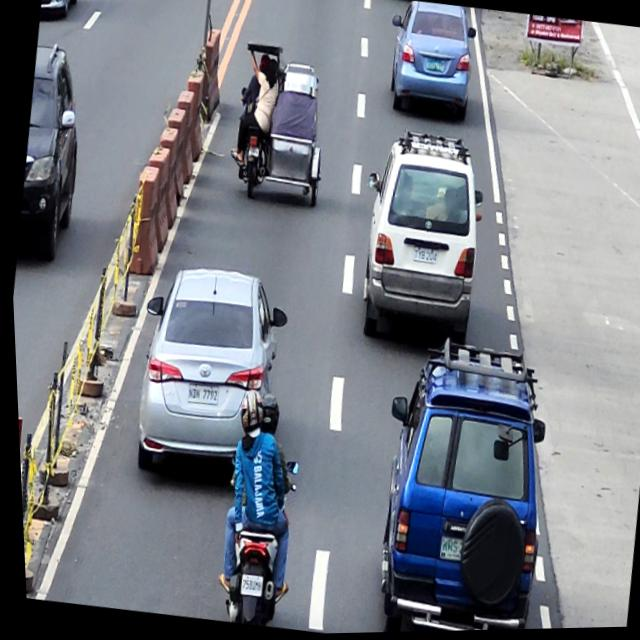Car: (353, 331, 563, 634), (120, 258, 296, 489), (343, 124, 496, 353), (7, 40, 96, 264), (379, 0, 482, 124), (39, 0, 86, 28)
License-Plate: (182, 383, 217, 409), (433, 537, 461, 566), (233, 574, 259, 598), (408, 247, 437, 268), (424, 58, 446, 75), (245, 146, 259, 159)
Motorcycle: (206, 454, 302, 630)
Tricycle: (220, 40, 338, 211)
